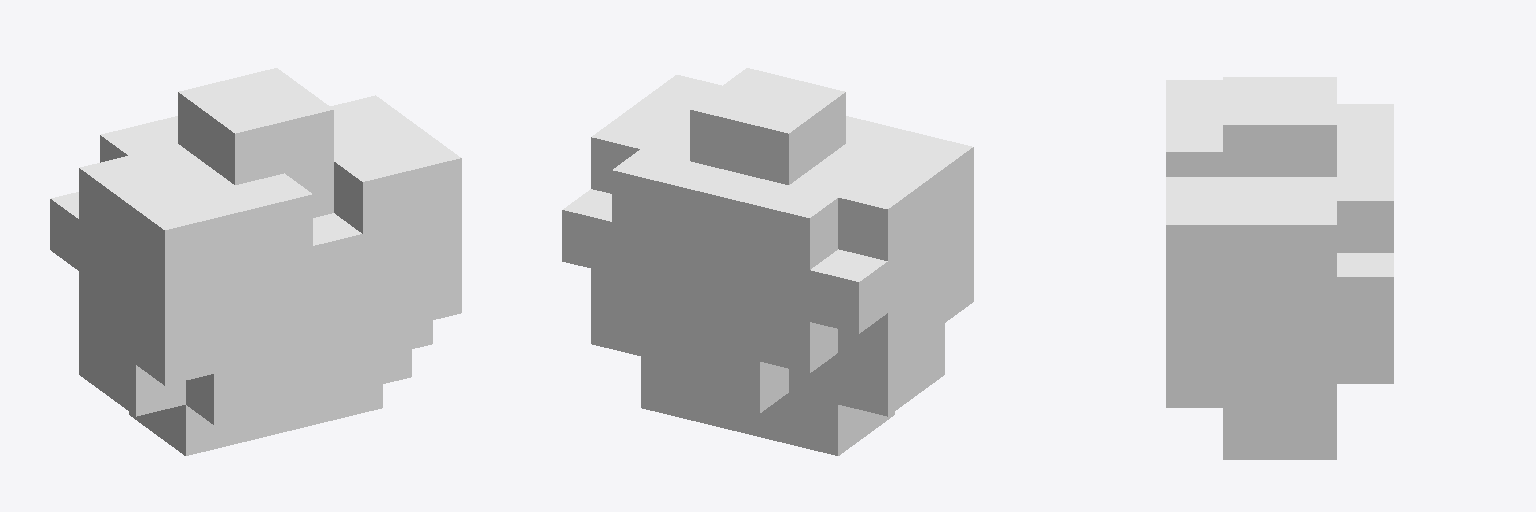
File: johnnyBody.obj
The picture shows the model from 3 angles: view 1: azimuth 30°, elevation 25°; view 2: azimuth 150°, elevation 25°; view 3: azimuth 270°, elevation 25°; orthographic projection.
Parts seen in each view (by area): view 1: johnnyBody; view 2: johnnyBody; view 3: johnnyBody.
Boxes of the visible parts, <box> form: johnnyBody: <box>50,68,461,455</box>; johnnyBody: <box>562,68,973,455</box>; johnnyBody: <box>1166,77,1393,459</box>.
Size of the model in its own units: 6 by 6 by 4.